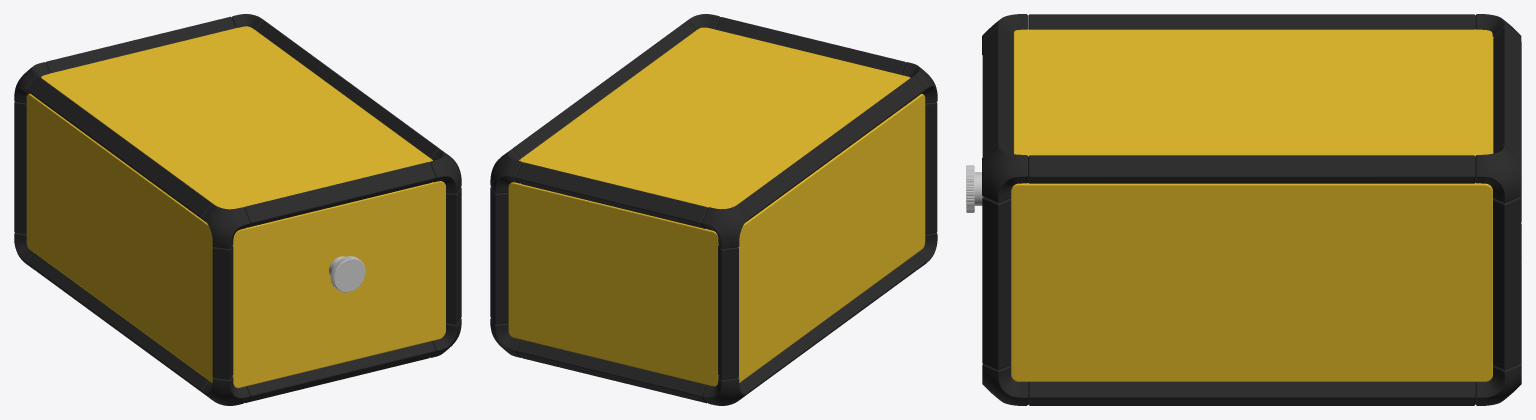
3 renders of one model, left to right at view 1: azimuth 30°, elevation 25°; view 2: azimuth 150°, elevation 25°; view 3: azimuth 270°, elevation 25°, orthographic. The views are drawn at different scales.
Visible parts, largest first — view 1: 229x374x154; view 2: 229x374x154; view 3: 229x374x154.
Boxes of the visible parts, <box> form: 229x374x154: <box>14,14,461,405</box>; 229x374x154: <box>490,14,937,405</box>; 229x374x154: <box>966,14,1521,405</box>.
Bounding box in the file's own units: 0.3067 × 0.2316 × 0.4646.
